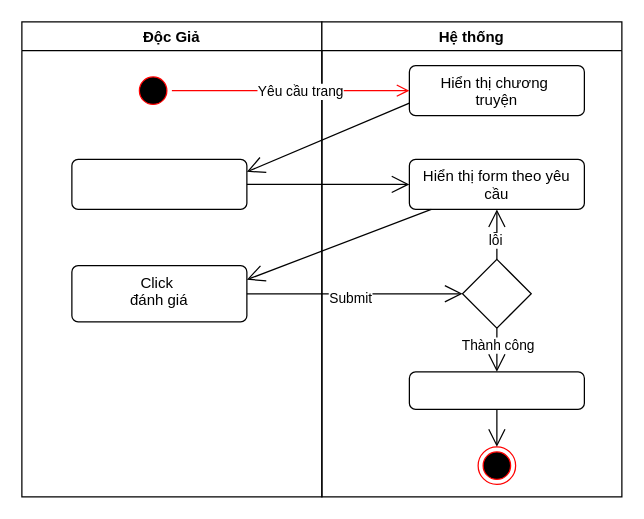
The diagram is 644 pixels wide and 519 high, and some of its shapes have lost their labels. Here are the shapes that lost their labels. From the top down, the centre of each, then its label:
(159,183): Chọn chức năng đánh giá
(496,293): kiểm tra
(496,390): Cập nhật cơ sở dữ liệu
